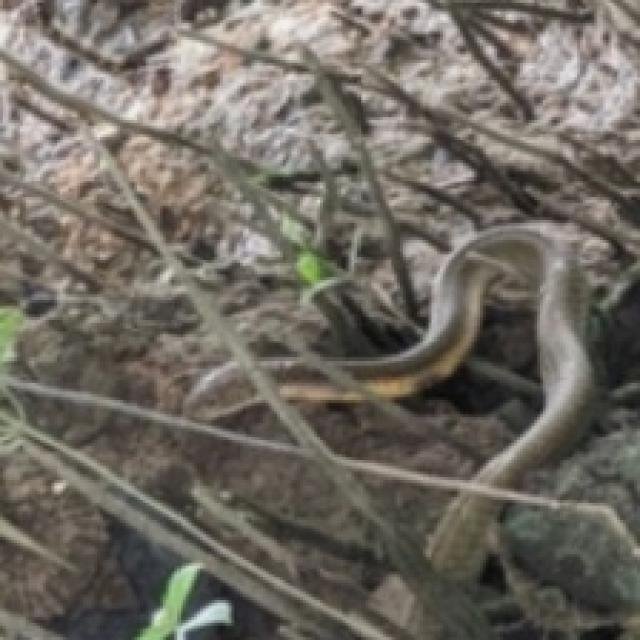king cobra: (286, 223, 591, 486), (426, 491, 497, 580), (184, 360, 261, 419), (260, 358, 358, 402)
